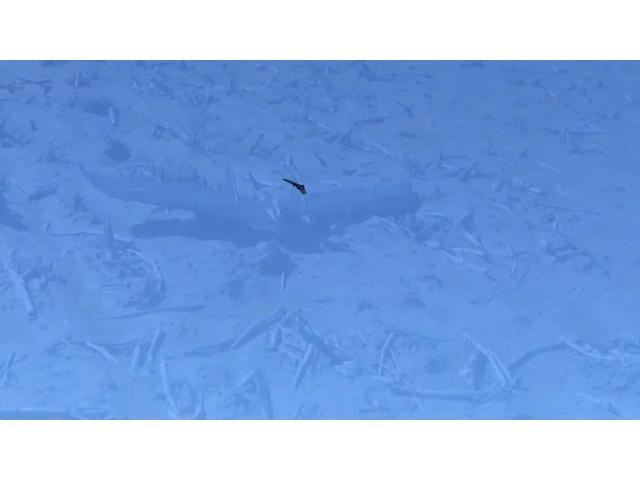Anti-Drone: (276, 160, 316, 208)
